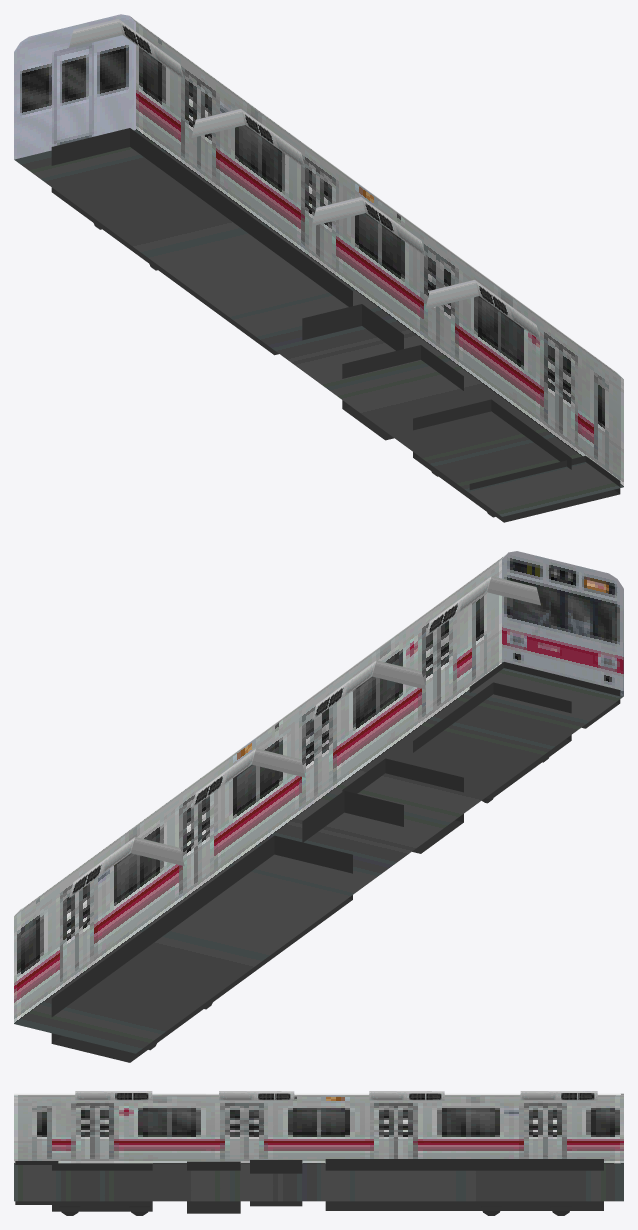
File: ps2_save-icons_trainsimulatordenshadegotokyokyuukouhen.glb
3 renders of one model, top to bottom at view 1: azimuth 30°, elevation 25°; view 2: azimuth 150°, elevation 25°; view 3: azimuth 270°, elevation 25°, orthographic. The views are drawn at different scales.
Parts seen in each view (by area): view 1: ICON.ICO; view 2: ICON.ICO; view 3: ICON.ICO.
Boxes of the visible parts, x1,y1,x2,y2 form: ICON.ICO: (14, 14, 623, 522); ICON.ICO: (14, 551, 623, 1062); ICON.ICO: (14, 1091, 623, 1215).
Bounding box in the file's own units: 0.7153 × 0.9844 × 4.96.
1 material, 1 textured.
